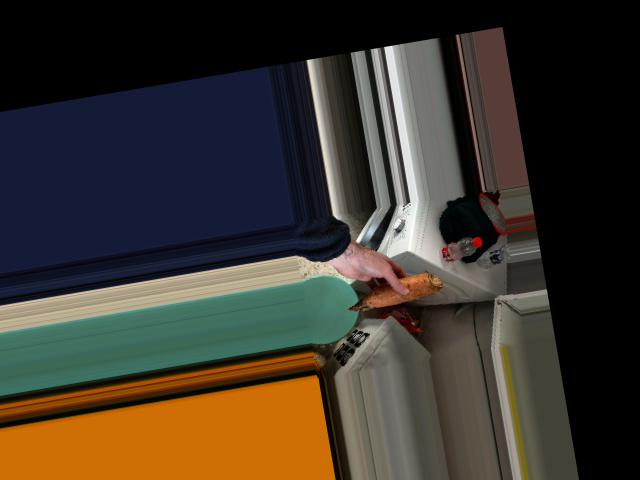sweet_potato: (349, 269, 443, 310)
